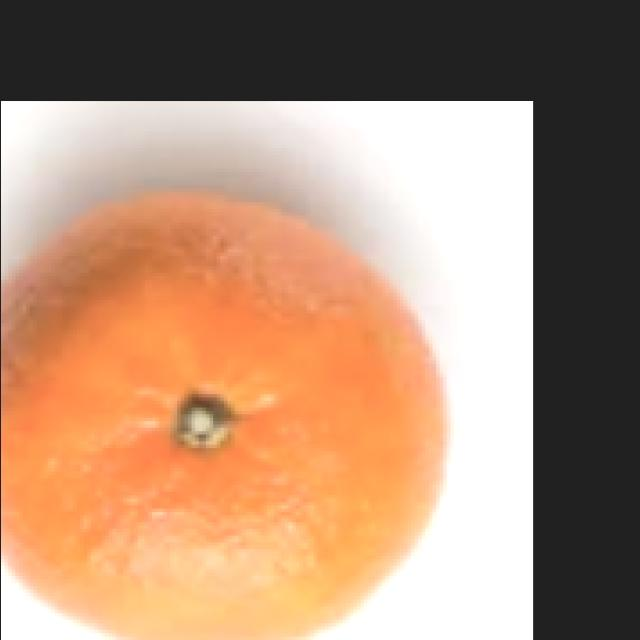orange: (0, 185, 459, 640)
